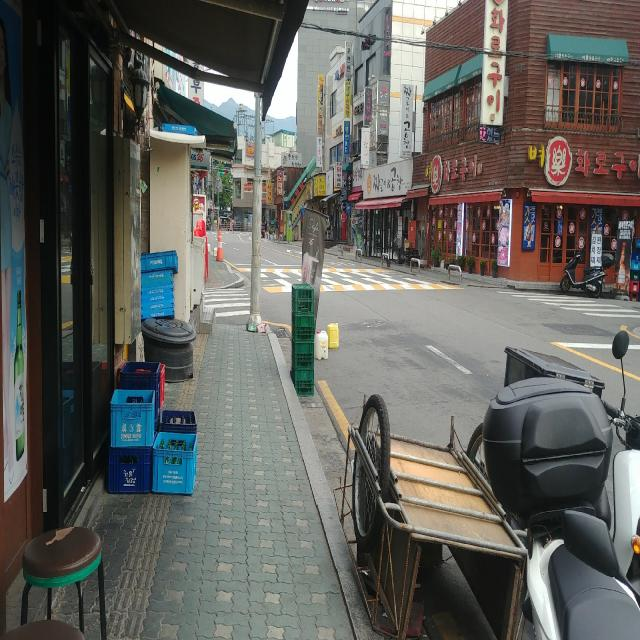횡단보도: (255, 266, 435, 286), (203, 288, 251, 318)
